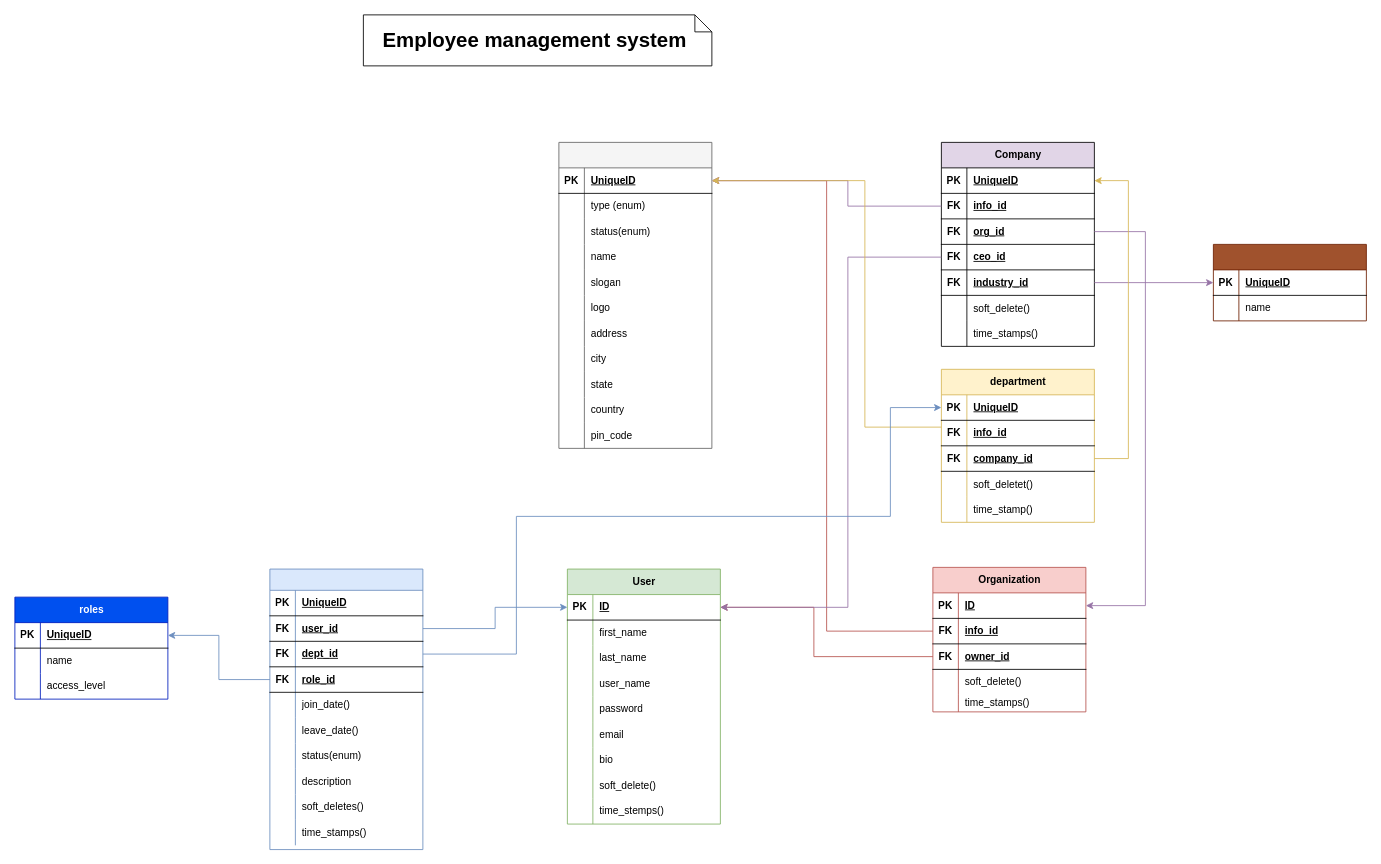
Image size: 1381x864. Some labels were removed from this diagram. Each missing label, with the box of its shape:
employee: (269, 568, 423, 850)
Industry: (1213, 244, 1366, 321)
info: (558, 142, 712, 448)
